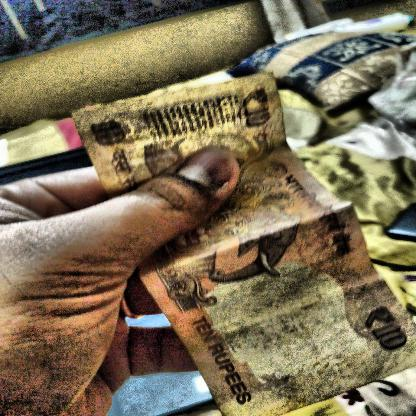Rs10: (354, 301, 416, 357)
